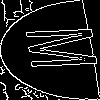M: (25, 25, 100, 70)
